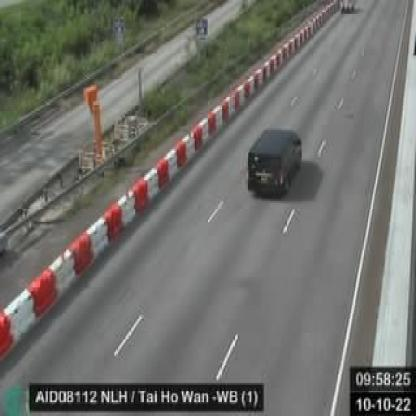Car: (246, 128, 302, 200)
